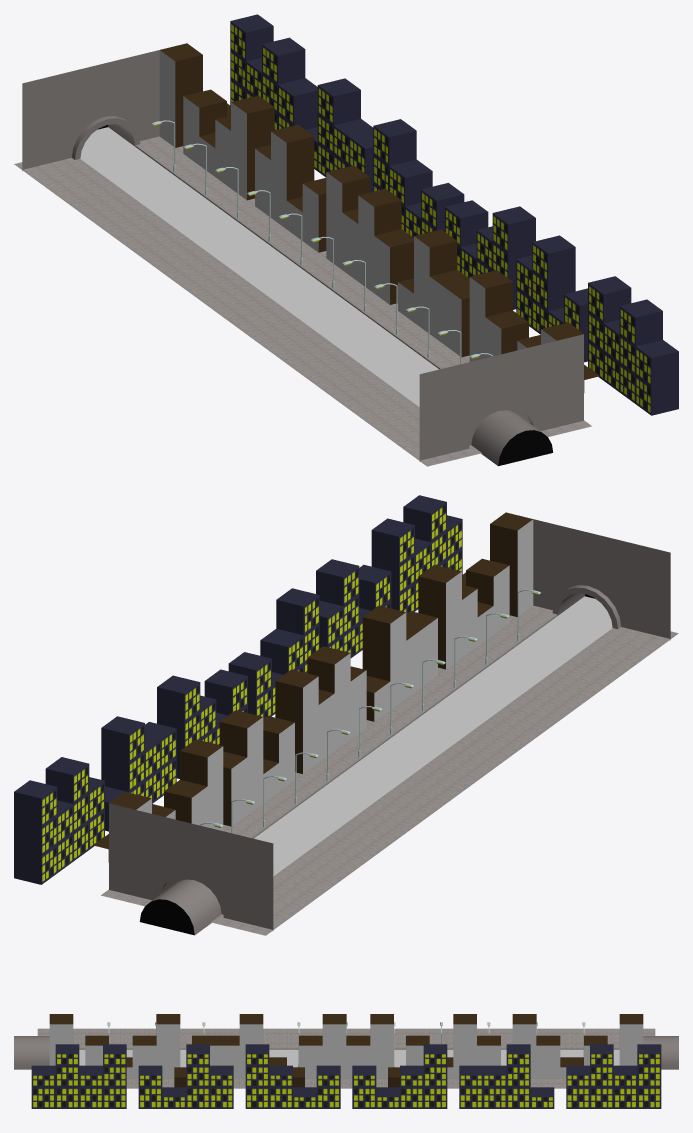
The model's file is City.fbx.
The picture shows the model from 3 angles, top to bottom: view 1: azimuth 30°, elevation 25°; view 2: azimuth 150°, elevation 25°; view 3: azimuth 270°, elevation 25°; orthographic projection. The views are drawn at different scales.
Parts seen in each view (by area): view 1: Road_and_Sidewalk, Buildings_Back, Buildings_Front, Tunnels, Lamps; view 2: Road_and_Sidewalk, Buildings_Back, Buildings_Front, Tunnels, Lamps; view 3: Buildings_Back, Buildings_Front, Road_and_Sidewalk, Tunnels, Lamps.
Boxes of the visible parts, x1,y1,x2,y2 form: Road_and_Sidewalk: (14,127,591,466); Buildings_Back: (230,14,678,415); Buildings_Front: (159,43,599,392); Tunnels: (22,50,583,466); Lamps: (152,120,492,364); Road_and_Sidewalk: (101,596,678,935); Buildings_Back: (14,495,462,884); Buildings_Front: (93,512,533,862); Tunnels: (109,519,670,935); Lamps: (200,589,540,833); Buildings_Back: (31,1044,661,1108); Buildings_Front: (49,1014,643,1087); Road_and_Sidewalk: (37,1028,655,1088); Tunnels: (14,1036,678,1069); Lamps: (107,1022,585,1067).
Bounding box in the file's own units: 900 × 305 × 2800.
